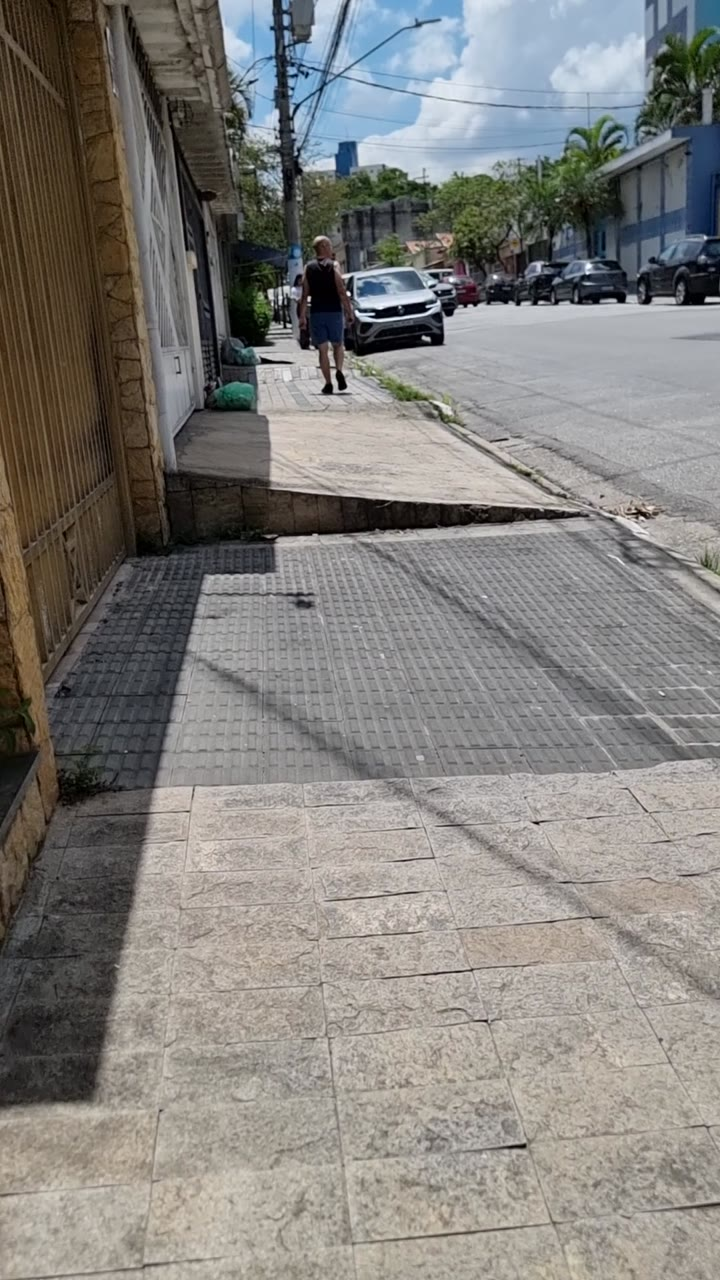desnivel: (144, 474, 720, 563)
obstaculo: (211, 381, 255, 410)
